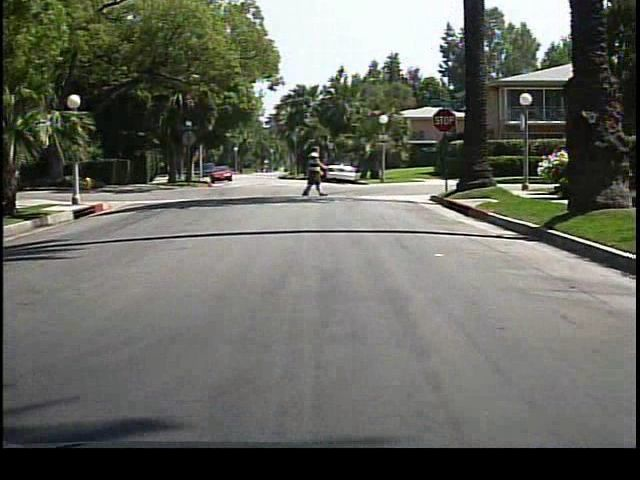person: (299, 146, 323, 199)
